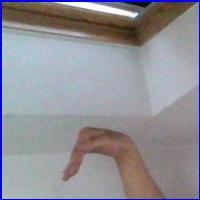del: (54, 123, 136, 189)
